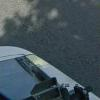Car: (1, 39, 96, 100)
